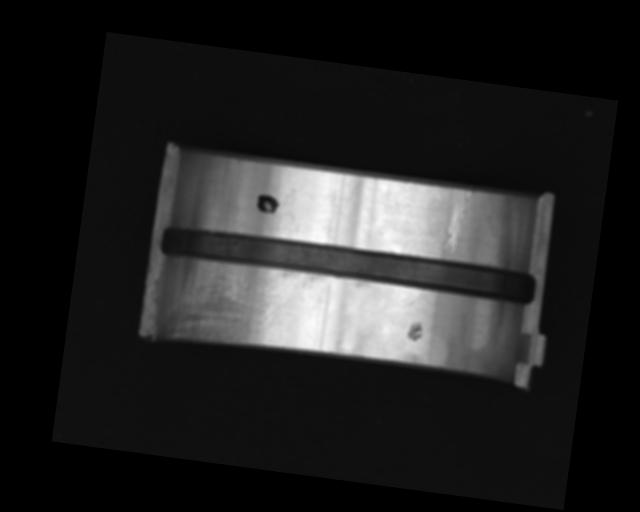blot: (254, 192, 282, 215)
bruise: (404, 318, 426, 343)
gap: (156, 220, 539, 308)
nick: (441, 184, 473, 255)
scratch: (160, 253, 296, 357)
